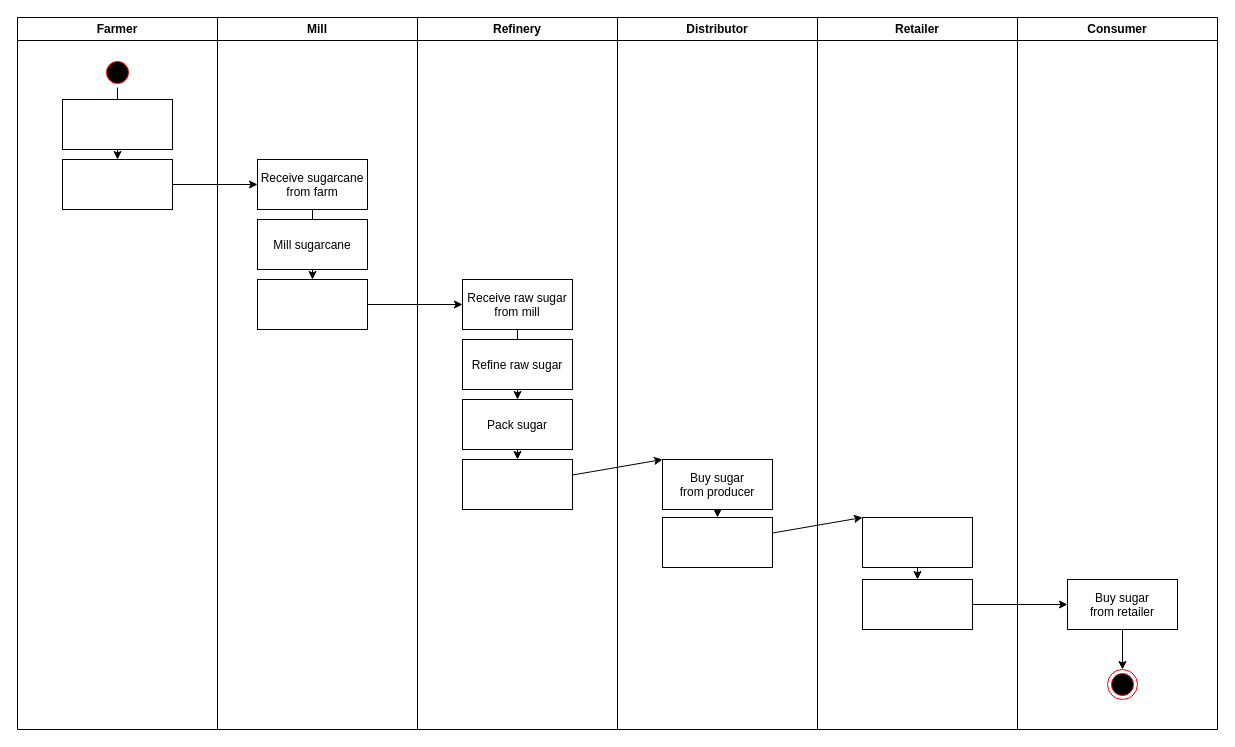
Some shapes in this 1235 by 747 pixel diagram are drawn without their labels. The shapes that lost their labels are listed below. From the top down, each one's centre as x and y in pixels, then its label:
(117,124): Harvest sugarcane
(117,184): Transport sugarcane to mill
(312,304): Transport raw sugar to refinery
(517,484): Sell sugar to distributor
(717,542): Ship sugar to retailer
(917,542): Receive sugar from distributor
(917,604): Sell sugar to consumer
